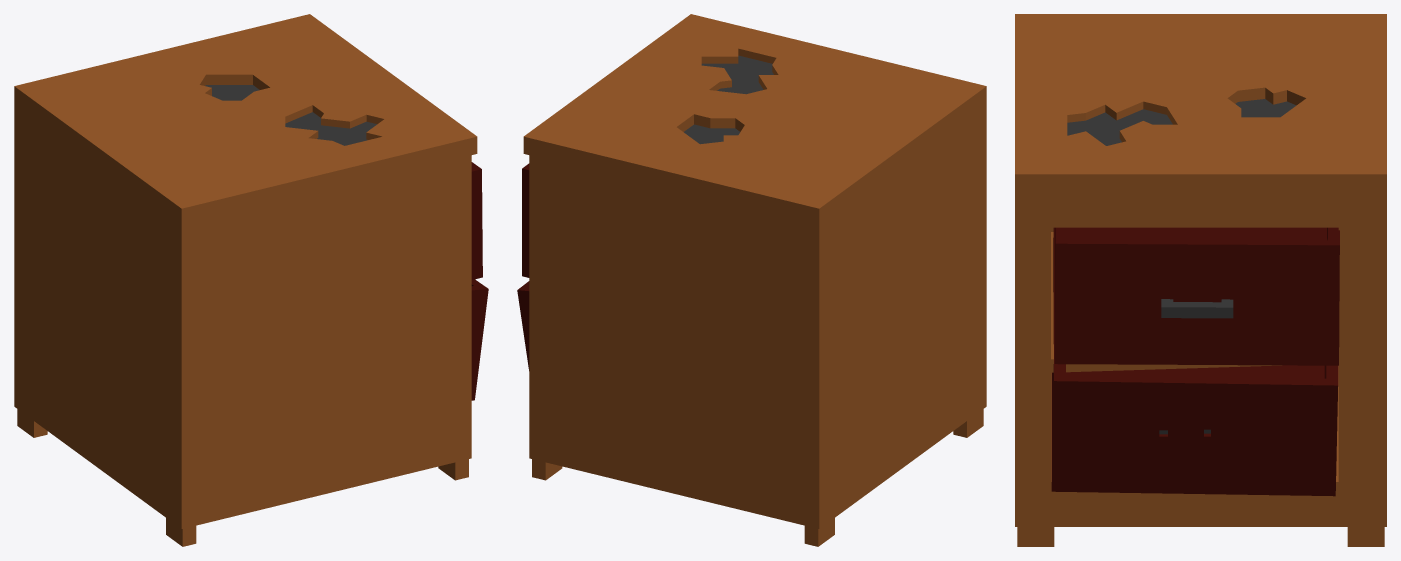
Rendered from CabinetBroken2.fbx.
3 renders of one model, left to right at view 1: azimuth 30°, elevation 25°; view 2: azimuth 150°, elevation 25°; view 3: azimuth 270°, elevation 25°, orthographic. The views are drawn at different scales.
Visible parts, largest first — view 1: CabinetBroken2; view 2: CabinetBroken2; view 3: CabinetBroken2.
Boxes of the visible parts, <box> form: CabinetBroken2: <box>14,14,488,546</box>; CabinetBroken2: <box>517,14,986,546</box>; CabinetBroken2: <box>1015,14,1386,546</box>.
Bounding box in the file's own units: 2.3 × 2.24 × 2.
